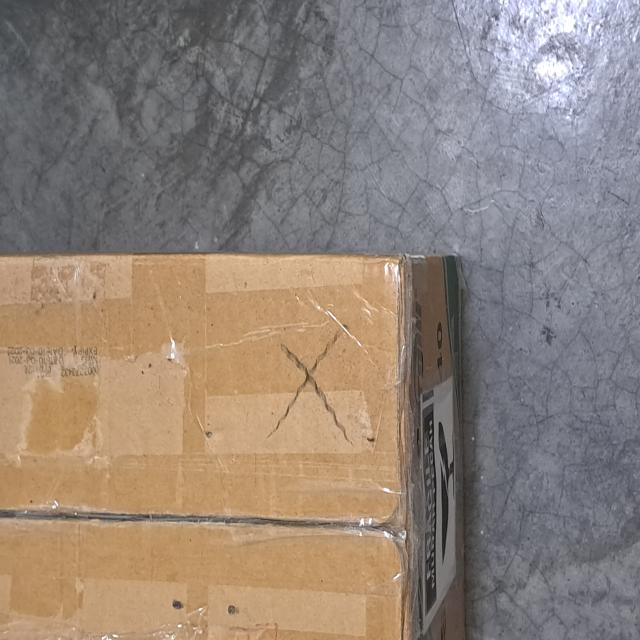cardboard: (0, 249, 469, 640)
